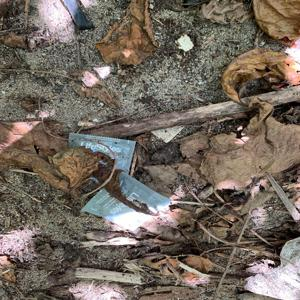plastic: (81, 172, 175, 235), (64, 131, 139, 192)
